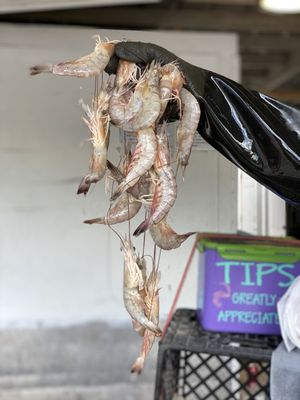pizza: (269, 270, 300, 400)
